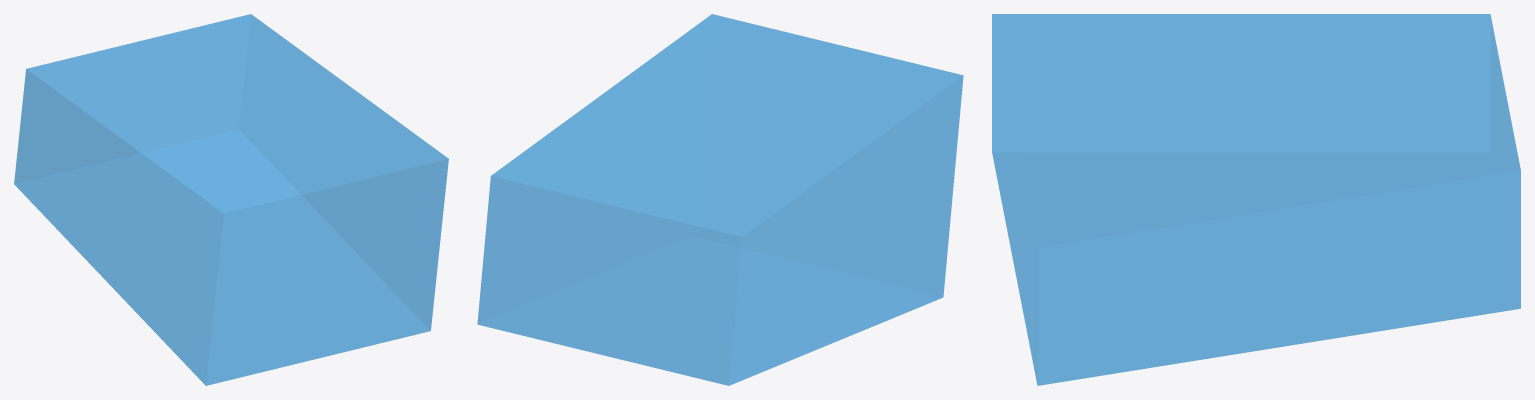
File: Bài 7.56.glb
3 views of the same model, side by side, from view 1: azimuth 30°, elevation 25°; view 2: azimuth 150°, elevation 25°; view 3: azimuth 270°, elevation 25° (orthographic). The views are drawn at different scales.
Size of the model in its own units: 1 by 0.7878 by 1.62.
